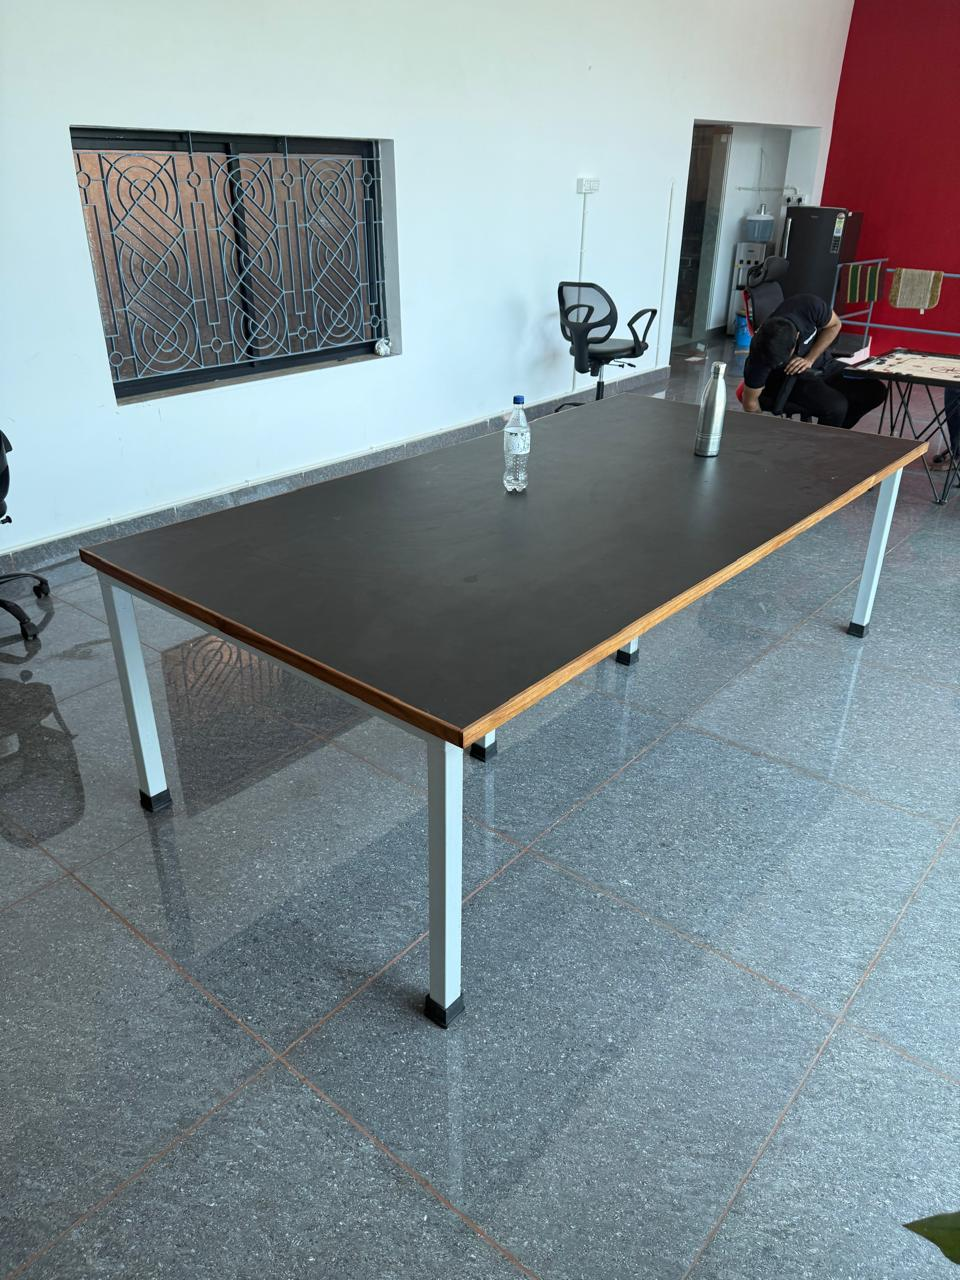bottle_on_table: (480, 381, 549, 502), (695, 349, 741, 490)
